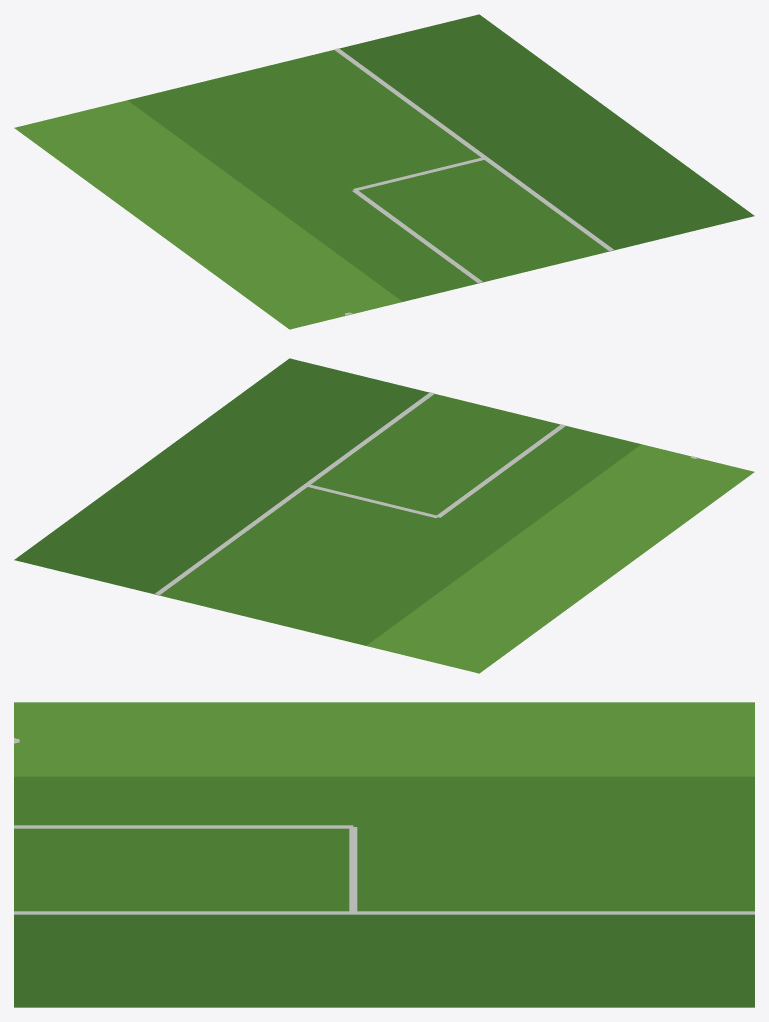
File: pitch_5_1.glb
The picture shows the model from 3 angles, top to bottom: view 1: azimuth 30°, elevation 25°; view 2: azimuth 150°, elevation 25°; view 3: azimuth 270°, elevation 25°; orthographic projection. The views are drawn at different scales.
Parts seen in each view (by area): view 1: pitch_5_1; view 2: pitch_5_1; view 3: pitch_5_1.
Boxes of the visible parts, bbox=[...] form: pitch_5_1: bbox=[14, 14, 754, 329]; pitch_5_1: bbox=[14, 358, 754, 673]; pitch_5_1: bbox=[14, 702, 754, 1007].
Size of the model in its own units: 19.5 by 0.02 by 20.
